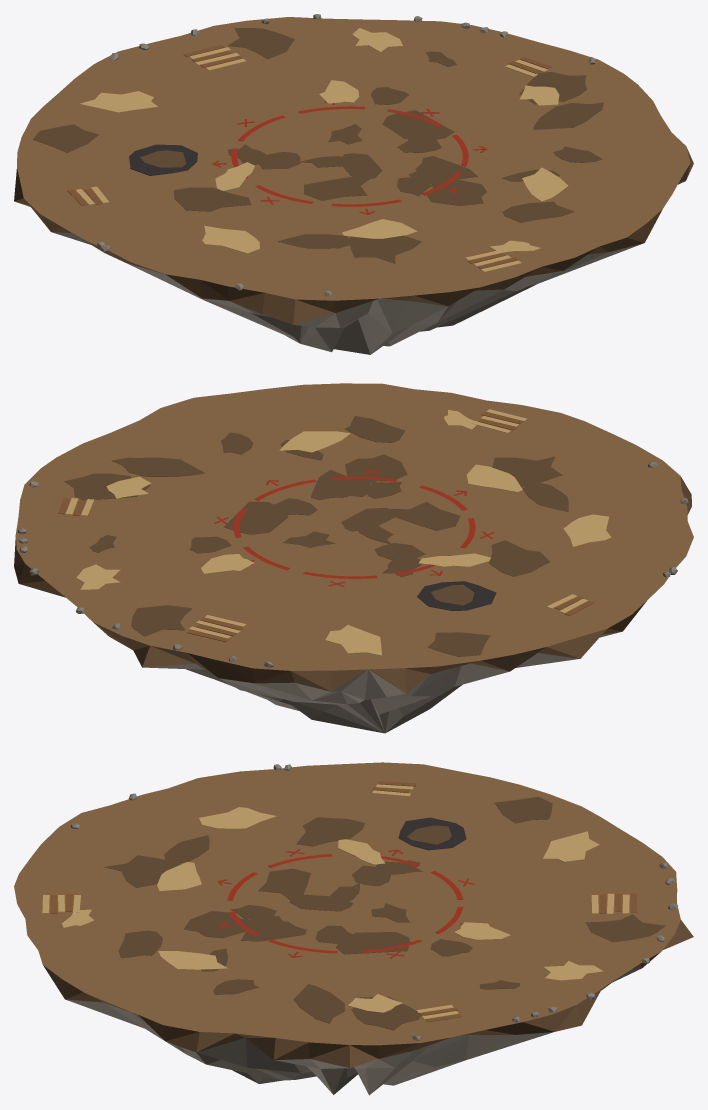
The model's file is Kriegslager_Floor.fbx.
3 renders of one model, top to bottom at view 1: azimuth 30°, elevation 25°; view 2: azimuth 150°, elevation 25°; view 3: azimuth 270°, elevation 25°, orthographic. The views are drawn at different scales.
Visible parts, largest first — view 1: Kriegslager_Floor; view 2: Kriegslager_Floor; view 3: Kriegslager_Floor.
Part boxes in pixels (x1,y1,x2,y2): Kriegslager_Floor: (14, 14, 693, 354); Kriegslager_Floor: (14, 383, 693, 733); Kriegslager_Floor: (14, 762, 693, 1095).
Bounding box in the file's own units: 37.04 × 11.27 × 36.89.
